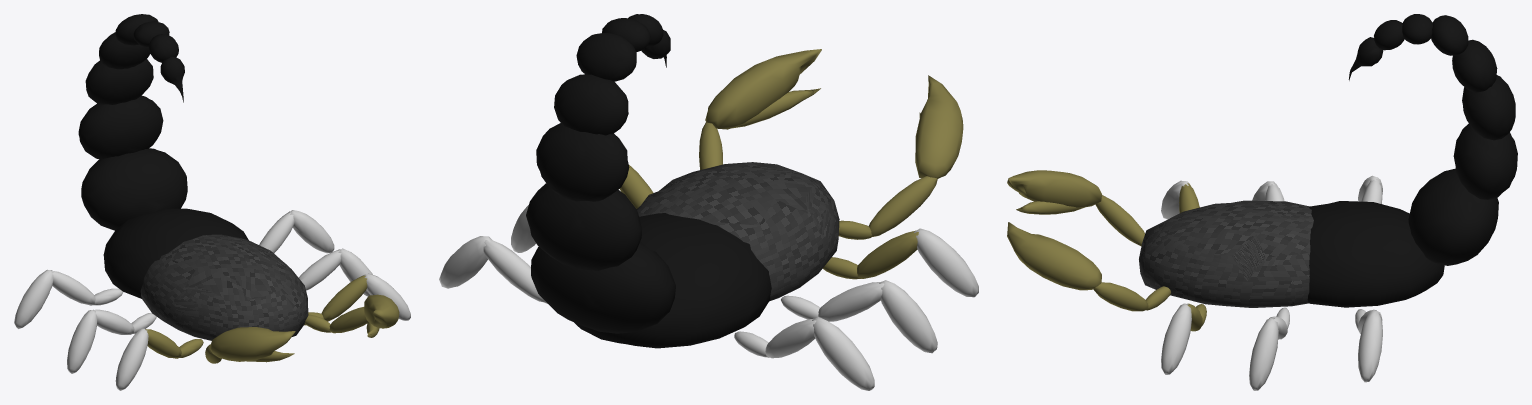
File: scorpion_000007.obj
3 renders of one model, left to right at view 1: azimuth 30°, elevation 25°; view 2: azimuth 150°, elevation 25°; view 3: azimuth 270°, elevation 25°, orthographic. The views are drawn at different scales.
Parts seen in each view (by area): view 1: Sphere.010_Sphere.012, Sphere.002_Sphere.004, Sphere.011_Sphere.013, Sphere.003_Sphere.005, Sphere.030_Sphere.000, Sphere.004_Sphere.006, Sphere.014_Sphere.023, Sphere.000_Sphere.019, Sphere.012_Sphere.020, Sphere.013_Sphere.017, Sphere.018_Sphere.025, Sphere.016_Sphere.022 (+9 smaller); view 2: Sphere.010_Sphere.012, Sphere.011_Sphere.013, Sphere.002_Sphere.004, Sphere.030_Sphere.000, Sphere.003_Sphere.005, Sphere.004_Sphere.006, Sphere.014_Sphere.023, Sphere.005_Sphere.007, Sphere.012_Sphere.020, Sphere.018_Sphere.025, Sphere.028_Sphere.046, Sphere.006_Sphere.008 (+11 smaller); view 3: Sphere.010_Sphere.012, Sphere.011_Sphere.013, Sphere.002_Sphere.004, Sphere.030_Sphere.000, Sphere.003_Sphere.005, Sphere.004_Sphere.006, Sphere.028_Sphere.046, Sphere.000_Sphere.019, Sphere.005_Sphere.007, Sphere.012_Sphere.020, Sphere.014_Sphere.023, Sphere.006_Sphere.008 (+7 smaller).
Boxes of the visible parts, bbox=[...] form: Sphere.010_Sphere.012: bbox=[140, 234, 308, 340]; Sphere.002_Sphere.004: bbox=[81, 148, 187, 230]; Sphere.011_Sphere.013: bbox=[103, 208, 248, 298]; Sphere.003_Sphere.005: bbox=[78, 95, 163, 159]; Sphere.030_Sphere.000: bbox=[209, 294, 399, 361]; Sphere.004_Sphere.006: bbox=[85, 59, 153, 104]; Sphere.014_Sphere.023: bbox=[14, 210, 334, 328]; Sphere.000_Sphere.019: bbox=[115, 273, 410, 390]; Sphere.012_Sphere.020: bbox=[67, 248, 372, 373]; Sphere.013_Sphere.017: bbox=[145, 275, 367, 358]; Sphere.018_Sphere.025: bbox=[51, 211, 294, 305]; Sphere.016_Sphere.022: bbox=[90, 249, 341, 334]; Sphere.010_Sphere.012: bbox=[636, 162, 839, 301]; Sphere.011_Sphere.013: bbox=[574, 213, 771, 348]; Sphere.002_Sphere.004: bbox=[531, 241, 675, 333]; Sphere.030_Sphere.000: bbox=[705, 49, 963, 178]; Sphere.003_Sphere.005: bbox=[526, 183, 642, 270]; Sphere.004_Sphere.006: bbox=[536, 123, 629, 201]; Sphere.014_Sphere.023: bbox=[439, 236, 874, 390]; Sphere.005_Sphere.007: bbox=[554, 74, 628, 135]; Sphere.012_Sphere.020: bbox=[511, 205, 937, 353]; Sphere.018_Sphere.025: bbox=[483, 239, 816, 358]; Sphere.028_Sphere.046: bbox=[699, 122, 937, 236]; Sphere.006_Sphere.008: bbox=[576, 33, 636, 81]; Sphere.010_Sphere.012: bbox=[1139, 200, 1313, 307]; Sphere.011_Sphere.013: bbox=[1307, 201, 1444, 307]; Sphere.002_Sphere.004: bbox=[1408, 168, 1498, 265]; Sphere.030_Sphere.000: bbox=[1007, 170, 1101, 290]; Sphere.003_Sphere.005: bbox=[1453, 123, 1517, 199]; Sphere.004_Sphere.006: bbox=[1462, 75, 1515, 140]; Sphere.028_Sphere.046: bbox=[1093, 195, 1148, 311]; Sphere.000_Sphere.019: bbox=[1161, 180, 1191, 374]; Sphere.005_Sphere.007: bbox=[1452, 39, 1497, 92]; Sphere.012_Sphere.020: bbox=[1249, 181, 1278, 390]; Sphere.014_Sphere.023: bbox=[1358, 175, 1382, 382]; Sphere.006_Sphere.008: bbox=[1431, 15, 1468, 55].
Bounding box in the file's own units: 0.9641 × 0.7528 × 1.2.
